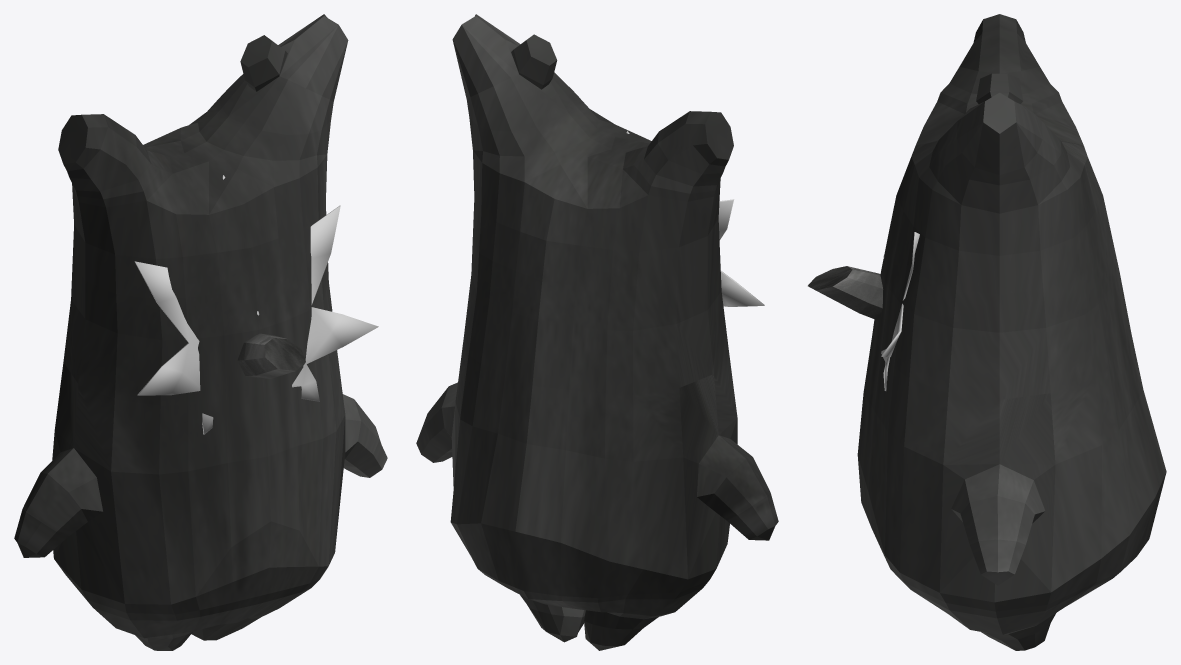
File: frame_0012.obj
The picture shows the model from 3 angles, left to right: view 1: azimuth 30°, elevation 25°; view 2: azimuth 150°, elevation 25°; view 3: azimuth 270°, elevation 25°; orthographic projection. The views are drawn at different scales.
Parts seen in each view (by area): view 1: korok, leaf.003_柱体.013, nose.003_柱体.011; view 2: korok, leaf.003_柱体.013; view 3: korok, nose.003_柱体.011, leaf.003_柱体.013.
Part boxes in pixels (x1,y1,x2,y2): korok: (14,14,387,650); leaf.003_柱体.013: (134,175,378,434); nose.003_柱体.011: (237,333,305,378); korok: (416,14,778,650); leaf.003_柱体.013: (626,131,764,306); korok: (857,14,1166,650); nose.003_柱体.011: (808,266,883,320); leaf.003_柱体.013: (881,232,919,390).
Bounding box in the file's own units: 1.6 × 2.54 × 1.36.
